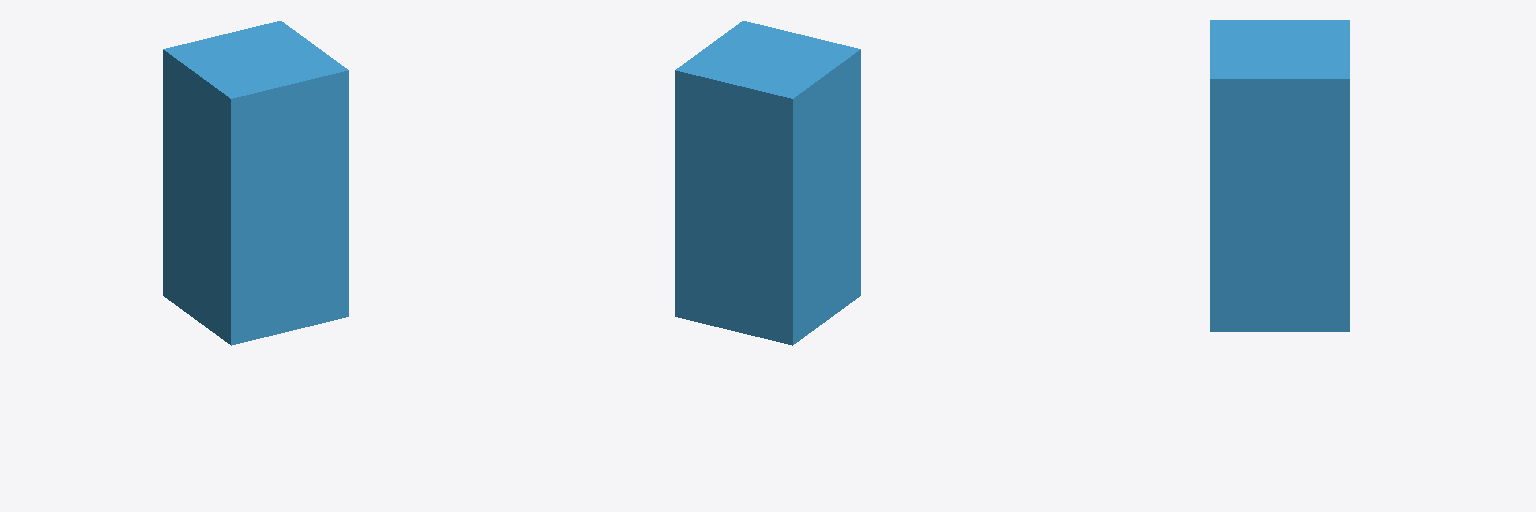
robot.urdf — test_model:
<robot name="test_model">

  <!-- root link, on the ground just below the model origin -->
  <link name="base_footprint">
   <visual>
      <origin xyz="0 0 0" rpy="0 0 0" />
      <geometry>
        <box size="0.001 0.001 0.001" />
      </geometry>
    </visual>
  </link>

  <joint name="base_link_joint" type="fixed">
    <origin xyz="0.0 0 1.25" rpy="0 0 0" />
    <parent link="base_footprint"/>
    <child link="base_link" />
  </joint>

  <!-- the model -->
  <link name="base_link">
    <inertial>
      <mass value="50" />
      <origin xyz="0 0 -1.25" />
      <inertia ixx="50.0" ixy="0.0" ixz="0.0"
        iyy="50.0" iyz="0.0"
        izz="50.0" />
    </inertial>
    <visual>
      <geometry>
        <box size="0.5 0.5 1.0" /> <!-- does not need to match collision -->
      </geometry>
    </visual>
    <collision>
      <origin xyz="0 0 -1.0" />
      <geometry>
        <cylinder length="0.5" radius="0.25" />
      </geometry>
    </collision>
  </link>

  <gazebo>
    <plugin name="object_controller" filename="libgazebo_ros_planar_move.so">
      <commandTopic>cmd_vel</commandTopic>
      <odometryTopic>odom</odometryTopic>
      <odometryFrame>odom</odometryFrame>
      <odometryRate>20.0</odometryRate>
      <robotBaseFrame>base_footprint</robotBaseFrame>
    </plugin>
  </gazebo>

</robot>

--- What the picture shows (computed from the rendered views, not written in the file) ---
The picture shows the robot from 3 angles, left to right: view 1: azimuth 30°, elevation 25°; view 2: azimuth 150°, elevation 25°; view 3: azimuth 270°, elevation 25°; orthographic projection.
Model test_model with 2 links and 1 joints (1 fixed), rooted at base_footprint, posed all joints at 0.
Links seen in each view (by area): view 1: base_link; view 2: base_link; view 3: base_link.
Link boxes in pixels (x1,y1,x2,y2): base_link: (163,21,348,345); base_link: (675,21,860,345); base_link: (1210,20,1349,331).
Bounding box of the posed robot: 0.5 × 0.5 × 1.75 m (x, y, z).
Geometry: primitives only (box / cylinder / sphere), no mesh files.